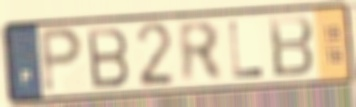2: (134, 21, 178, 90)
B: (267, 13, 317, 80), (84, 25, 132, 91)
L: (226, 20, 267, 82)
P: (37, 26, 86, 97)
R: (175, 19, 227, 87)
